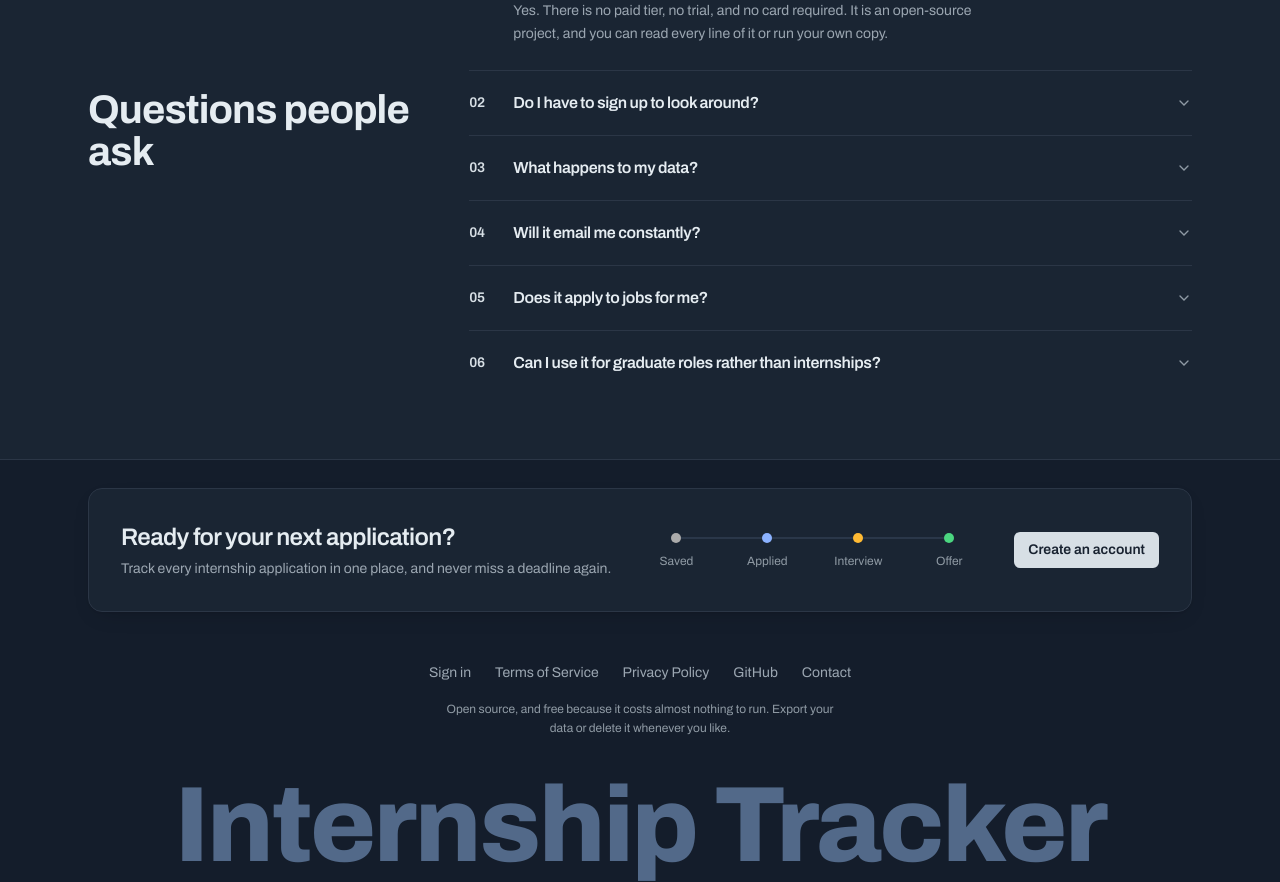
the legal pages render from markdown in the repository › opens at the top when reached from the footer, not at the scroll offset it was clicked from
This screenshot has width=1280, height=882.
(page scrolled)
Step 1. Click the link "Terms of Service" → point(547, 672), box [495,665,599,680]
(page scrolled)
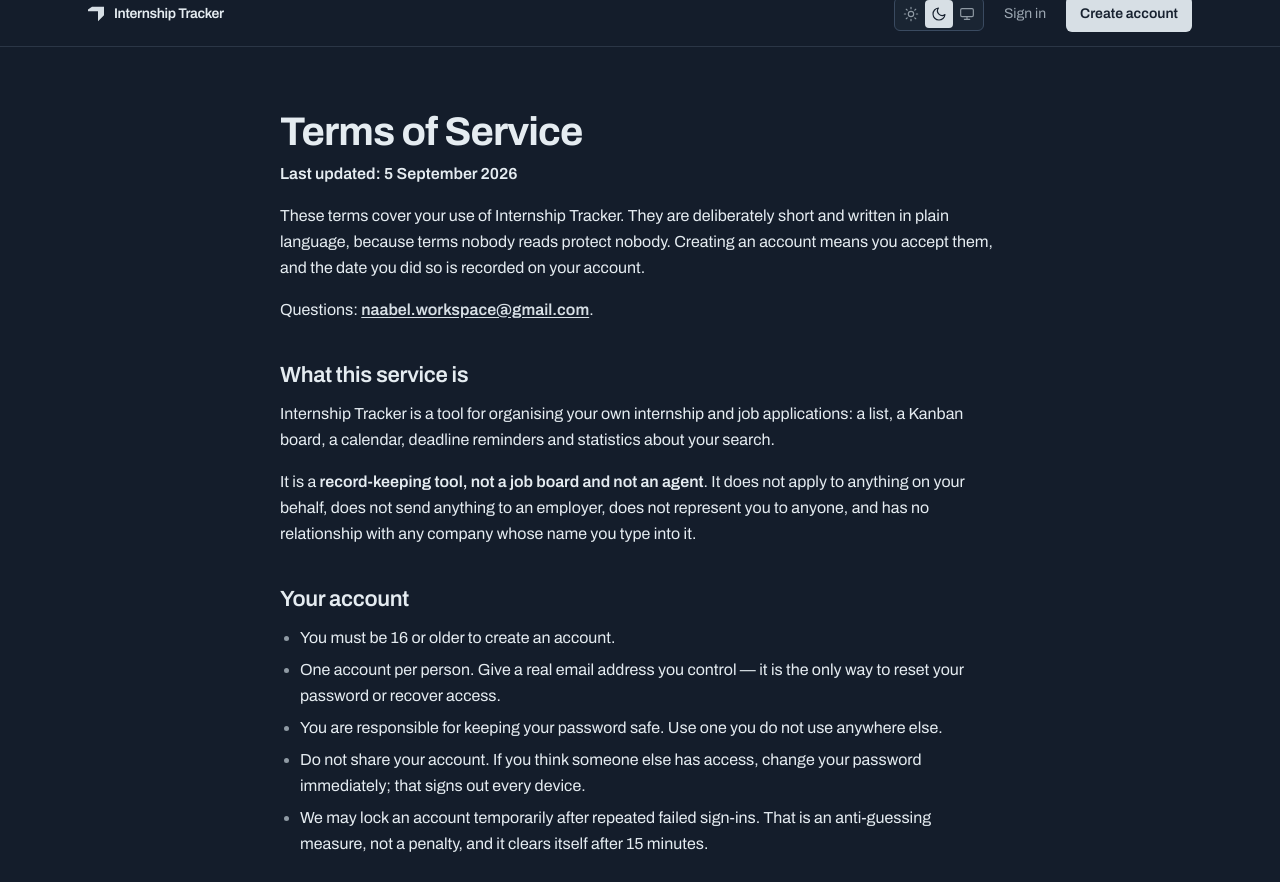
Result: the heading "Terms of Service" is shown at [280,110,583,153]
